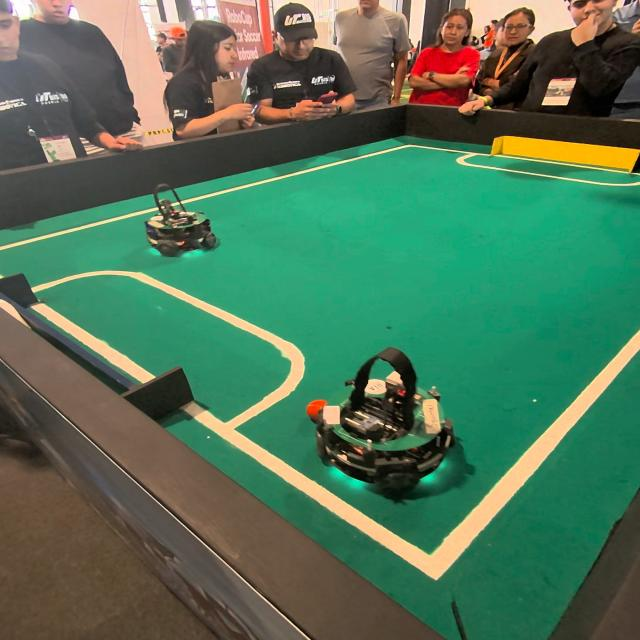Robot: (314, 339, 464, 509), (142, 183, 222, 260)
pelota: (306, 400, 324, 422)
